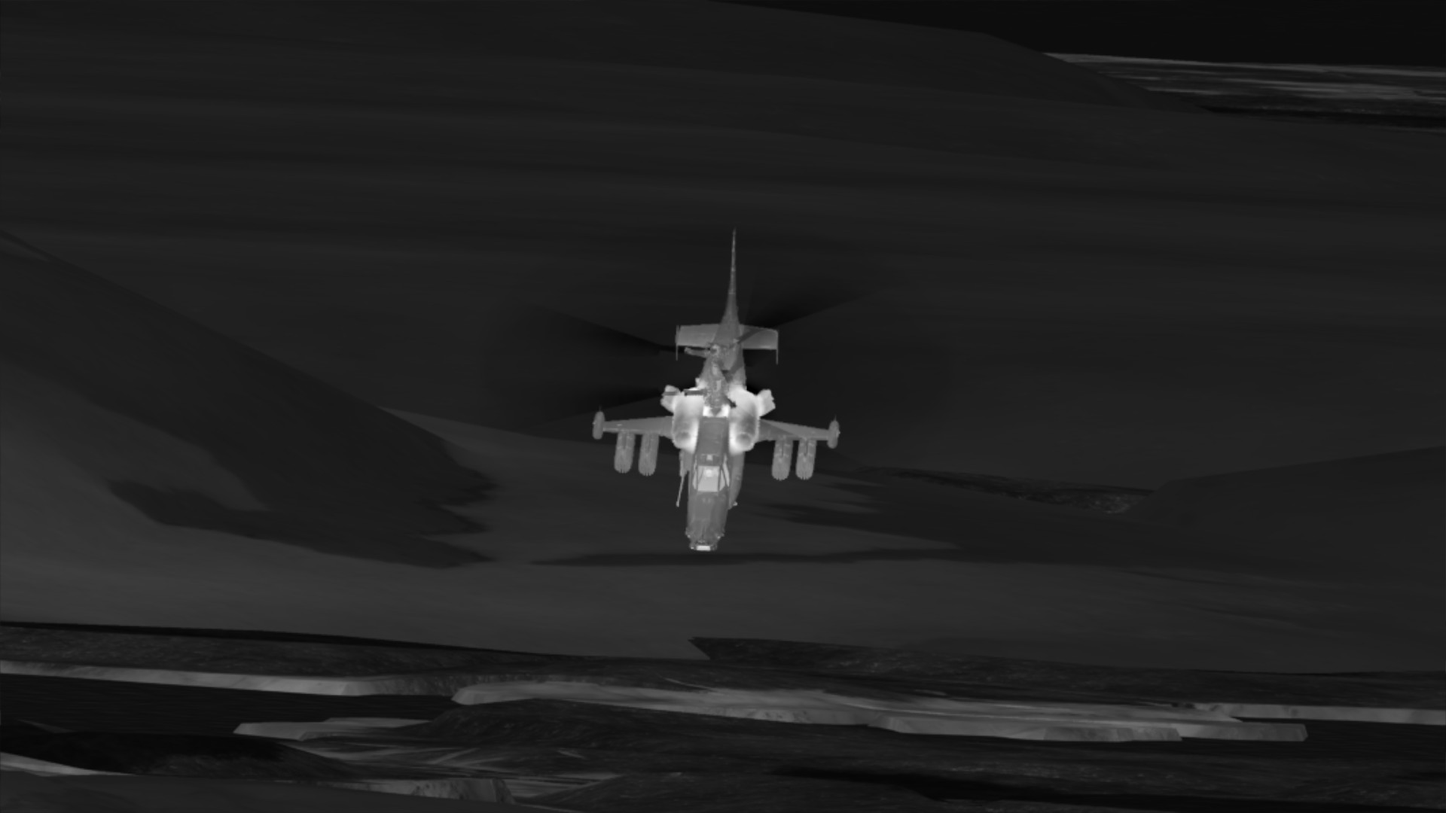ka50: (591, 227, 841, 552)
